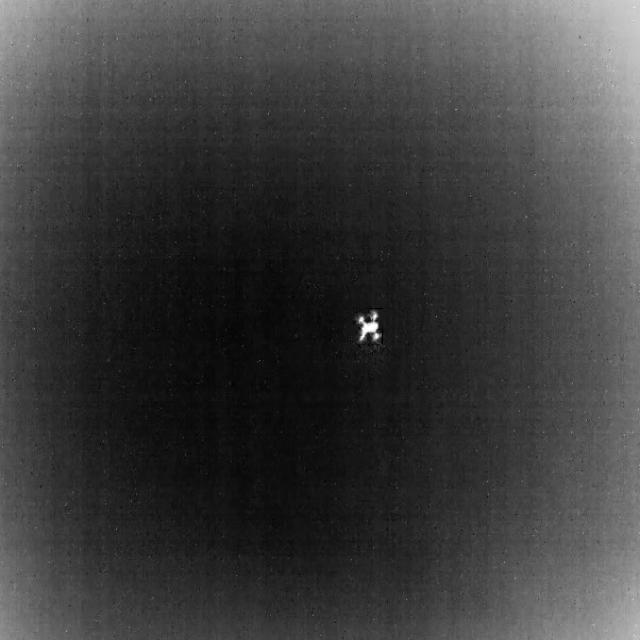drone: (356, 308, 383, 344)
